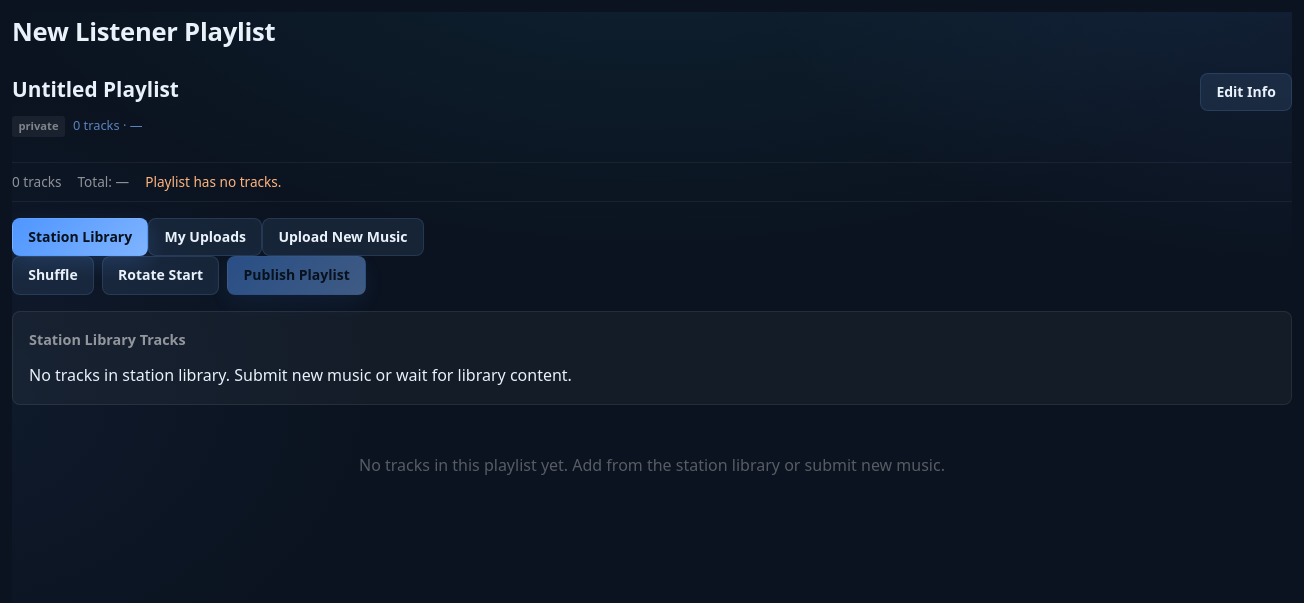
Scenario: listener playlist editor owner-track upload › keeps Publish Playlist enabled when the playlist title is still empty
Click the button "Upload New Music".
click(343, 237)  # box [262,218,424,256]
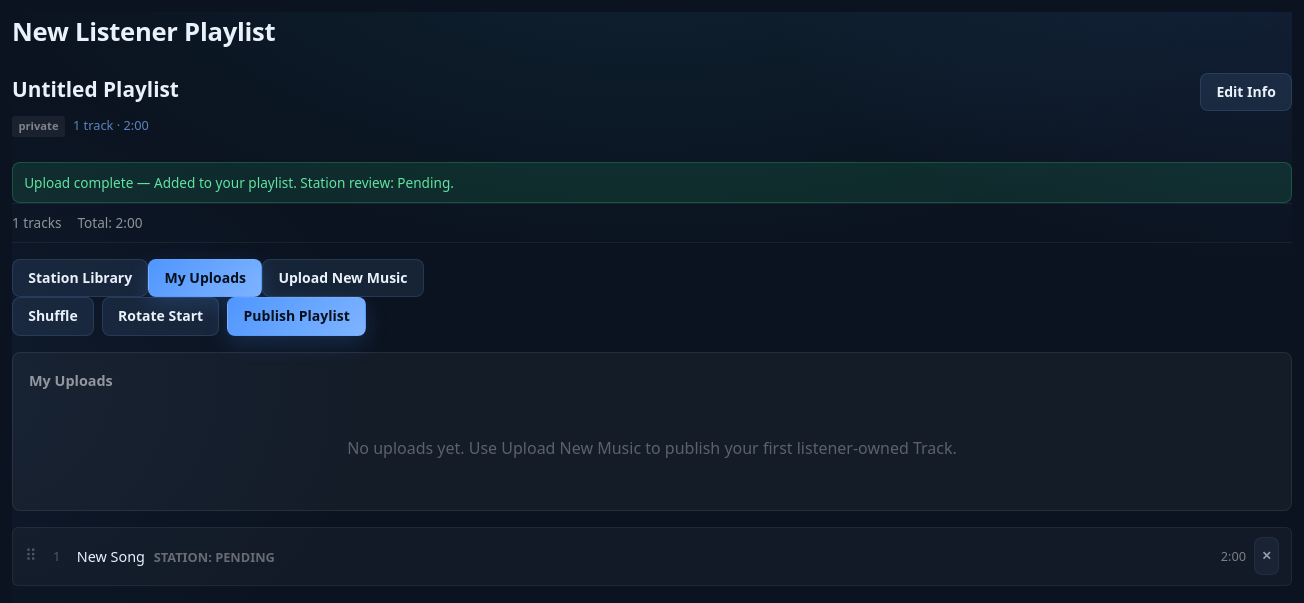
Now the text "Upload complete — Added to your playlist. Station review: Pending." is shown, box [12,162,1292,203]
Now the button "Publish Playlist" is enabled, box [227,298,366,336]
